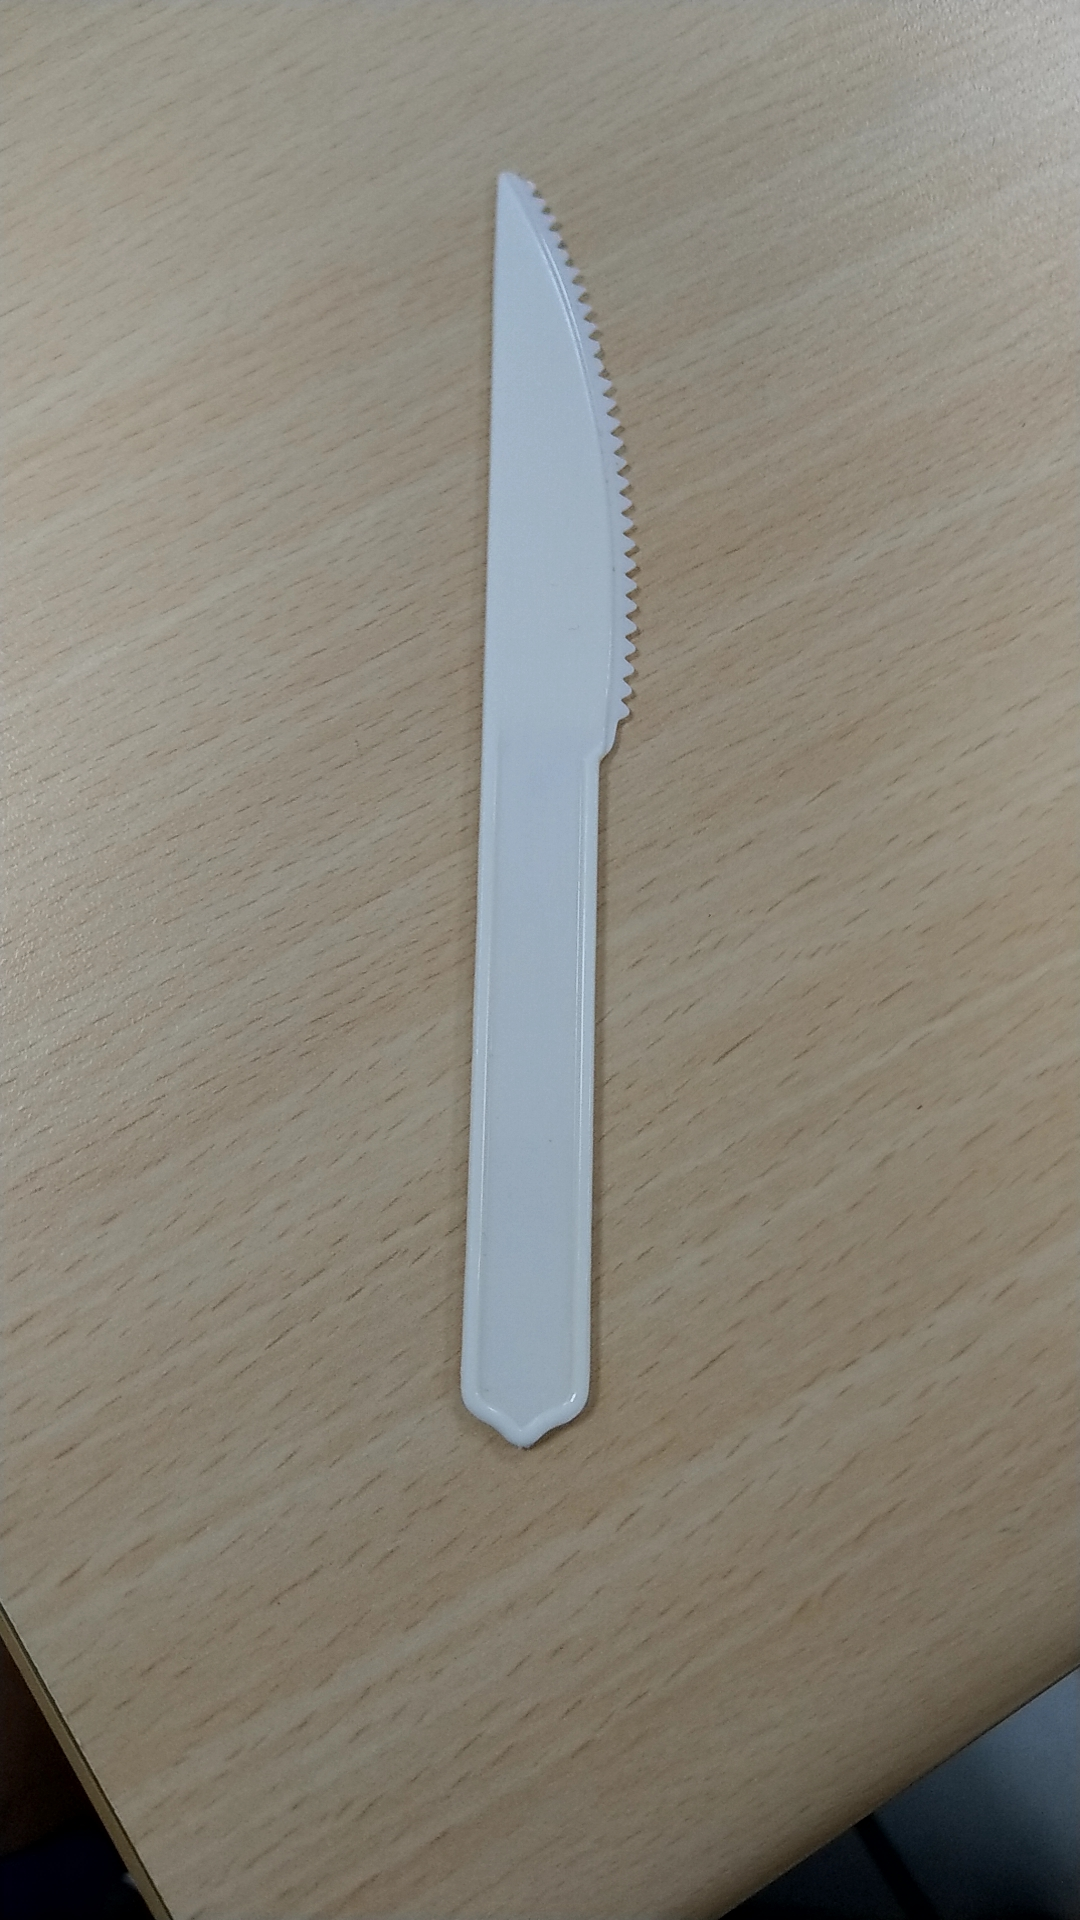knife: (430, 138, 662, 1476)
